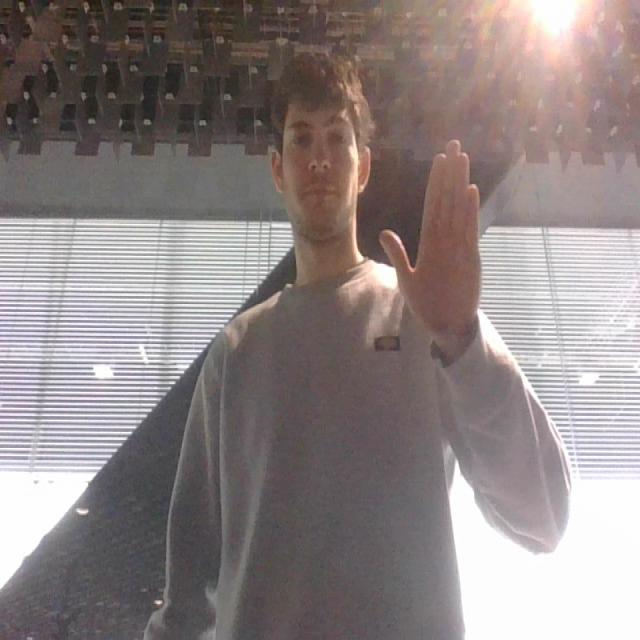backward: (376, 131, 502, 345)
